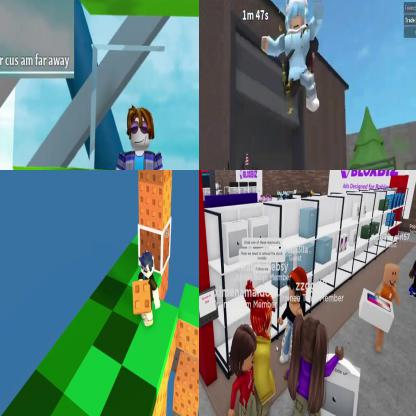Roblox-Avatar: (262, 1, 326, 118), (285, 314, 346, 416), (244, 280, 277, 416), (111, 104, 166, 170), (229, 324, 261, 416), (279, 268, 309, 366), (375, 264, 402, 353), (139, 250, 162, 328), (409, 236, 416, 301)
